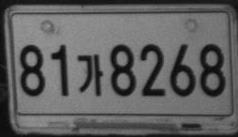1: (49, 44, 74, 95)
2: (139, 43, 165, 96)
6: (169, 43, 196, 96)
8: (109, 43, 137, 97), (199, 43, 226, 97), (19, 44, 45, 97)
가: (77, 53, 103, 96)
